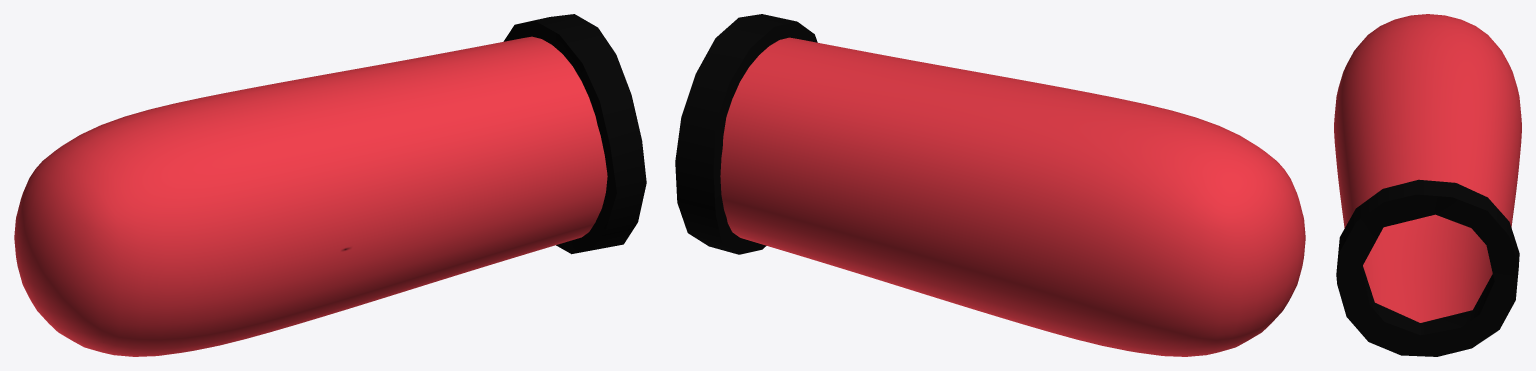
Rendered from canonv2r.fbx.
3 views of the same model, side by side, from view 1: azimuth 30°, elevation 25°; view 2: azimuth 150°, elevation 25°; view 3: azimuth 270°, elevation 25° (orthographic). The views are drawn at different scales.
Parts seen in each view (by area): view 1: canonv2; view 2: canonv2; view 3: canonv2.
Part boxes in pixels (box(x1,y1,x2,y2)): canonv2: box(14, 14, 646, 356); canonv2: box(675, 14, 1305, 356); canonv2: box(1334, 14, 1521, 356).
Bounding box in the file's own units: 572 × 215 × 215.
Materials: 1 (1 with a texture image).
